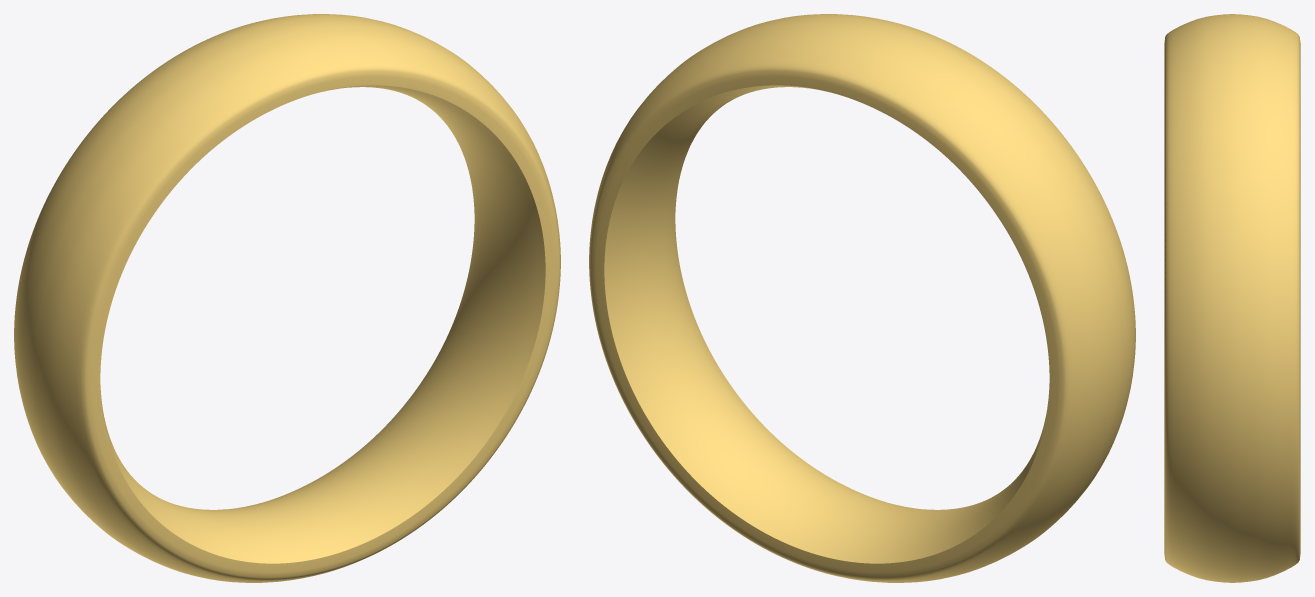
The model's file is ZachYG_webgi.glb.
3 views of the same model, side by side, from view 1: azimuth 30°, elevation 25°; view 2: azimuth 150°, elevation 25°; view 3: azimuth 270°, elevation 25° (orthographic). The views are drawn at different scales.
Parts seen in each view (by area): view 1: Zach_YG_for_3d_model; view 2: Zach_YG_for_3d_model; view 3: Zach_YG_for_3d_model.
Part boxes in pixels (box(x1,y1,x2,y2)): Zach_YG_for_3d_model: box(14, 14, 560, 582); Zach_YG_for_3d_model: box(589, 14, 1135, 582); Zach_YG_for_3d_model: box(1164, 14, 1300, 582).
Size of the model in its own units: 2.79 by 2.79 by 0.6682.
